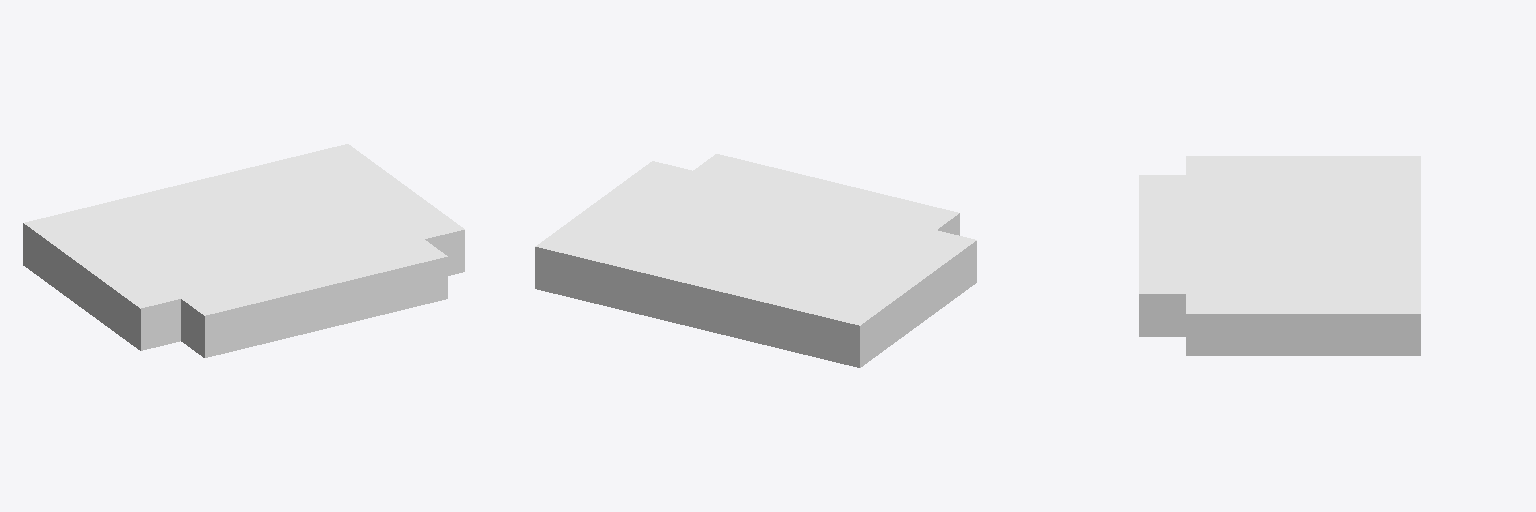
File: SmallBuilding01-12.obj
3 views of the same model, side by side, from view 1: azimuth 30°, elevation 25°; view 2: azimuth 150°, elevation 25°; view 3: azimuth 270°, elevation 25° (orthographic).
Visible parts, largest first — view 1: object 1; view 2: object 1; view 3: object 1.
Part boxes in pixels (bbox=[...]): object 1: bbox=[23, 144, 464, 357]; object 1: bbox=[535, 154, 976, 367]; object 1: bbox=[1139, 156, 1420, 355].
Bounding box in the file's own units: 0.8 × 0.1 × 0.6.